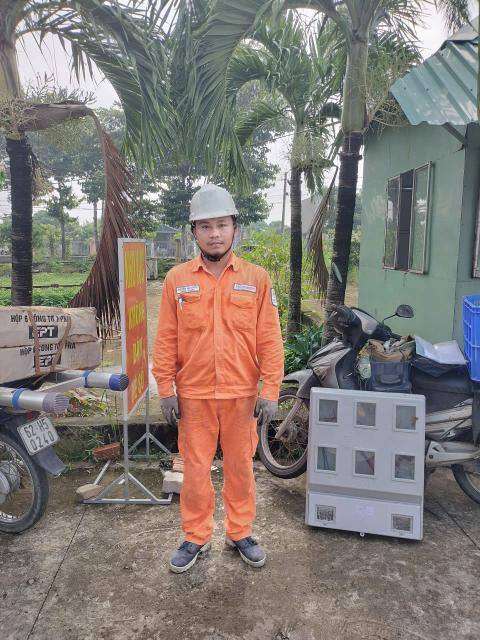gloves: (247, 388, 293, 434), (147, 383, 188, 432)
helmet: (187, 180, 244, 232)
shoes: (158, 512, 218, 578), (221, 515, 279, 573)
